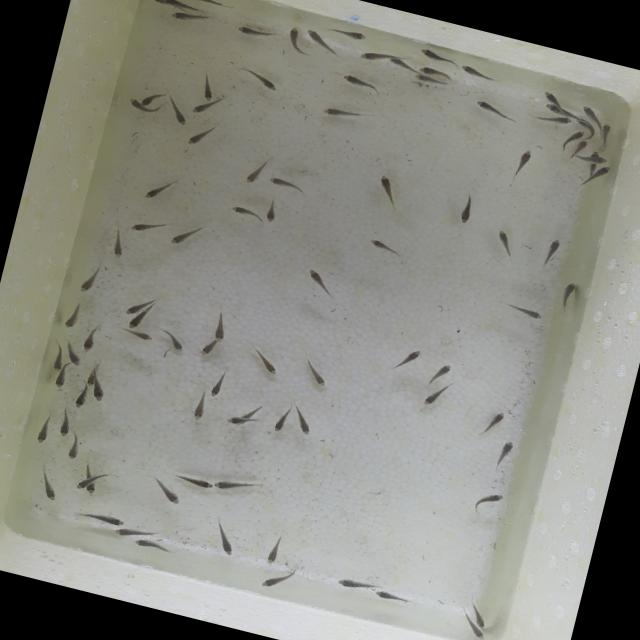fingerling: (204, 514, 244, 560), (138, 171, 184, 209), (212, 472, 263, 502), (31, 464, 67, 504), (468, 484, 508, 520), (316, 100, 371, 126), (144, 474, 186, 508), (236, 63, 282, 94), (336, 70, 386, 98), (164, 218, 204, 252), (472, 97, 522, 124), (500, 296, 549, 323), (389, 341, 426, 376), (369, 172, 403, 210), (506, 144, 537, 185), (72, 506, 126, 529), (302, 266, 338, 300), (299, 357, 334, 391), (206, 304, 234, 346), (258, 530, 288, 569), (231, 20, 276, 46), (254, 566, 294, 595), (302, 27, 342, 56), (246, 346, 282, 378), (488, 228, 520, 264), (414, 46, 461, 70), (328, 572, 374, 596), (286, 404, 318, 438), (238, 154, 270, 188), (73, 262, 103, 298), (266, 173, 306, 200), (456, 61, 500, 85), (125, 214, 167, 239), (326, 24, 372, 46), (454, 188, 479, 228), (536, 234, 563, 270), (172, 470, 216, 492), (166, 7, 208, 30), (62, 428, 88, 465), (58, 298, 86, 332), (104, 228, 132, 262), (31, 410, 56, 448), (364, 236, 403, 260), (552, 277, 578, 313), (492, 435, 517, 472), (278, 22, 306, 55), (418, 382, 448, 412), (479, 407, 507, 439), (195, 68, 220, 103), (415, 64, 457, 84), (372, 586, 412, 606), (132, 536, 174, 555), (428, 358, 456, 386), (412, 72, 451, 92), (52, 408, 76, 440), (206, 367, 228, 401), (188, 390, 210, 424), (160, 330, 189, 355), (77, 326, 101, 356), (268, 406, 292, 436), (227, 202, 263, 222), (532, 110, 572, 128), (260, 196, 282, 228), (117, 326, 155, 344), (181, 0, 236, 12), (356, 46, 386, 66), (49, 341, 66, 374), (168, 105, 192, 128), (161, 0, 202, 13), (195, 338, 218, 361), (186, 100, 212, 120), (182, 128, 205, 150), (73, 386, 91, 412), (597, 121, 614, 147), (90, 382, 110, 404), (51, 370, 70, 392), (64, 348, 84, 368), (578, 102, 599, 120), (110, 525, 134, 540), (539, 88, 561, 104), (472, 610, 488, 630), (125, 314, 142, 332), (138, 92, 156, 109), (122, 302, 140, 318), (568, 127, 585, 142), (543, 102, 561, 116), (590, 154, 608, 168), (72, 477, 88, 492), (124, 94, 139, 110), (573, 137, 589, 152), (469, 626, 486, 640), (596, 164, 612, 178), (224, 414, 242, 426), (84, 482, 98, 496), (84, 375, 96, 388), (150, 0, 163, 4)
